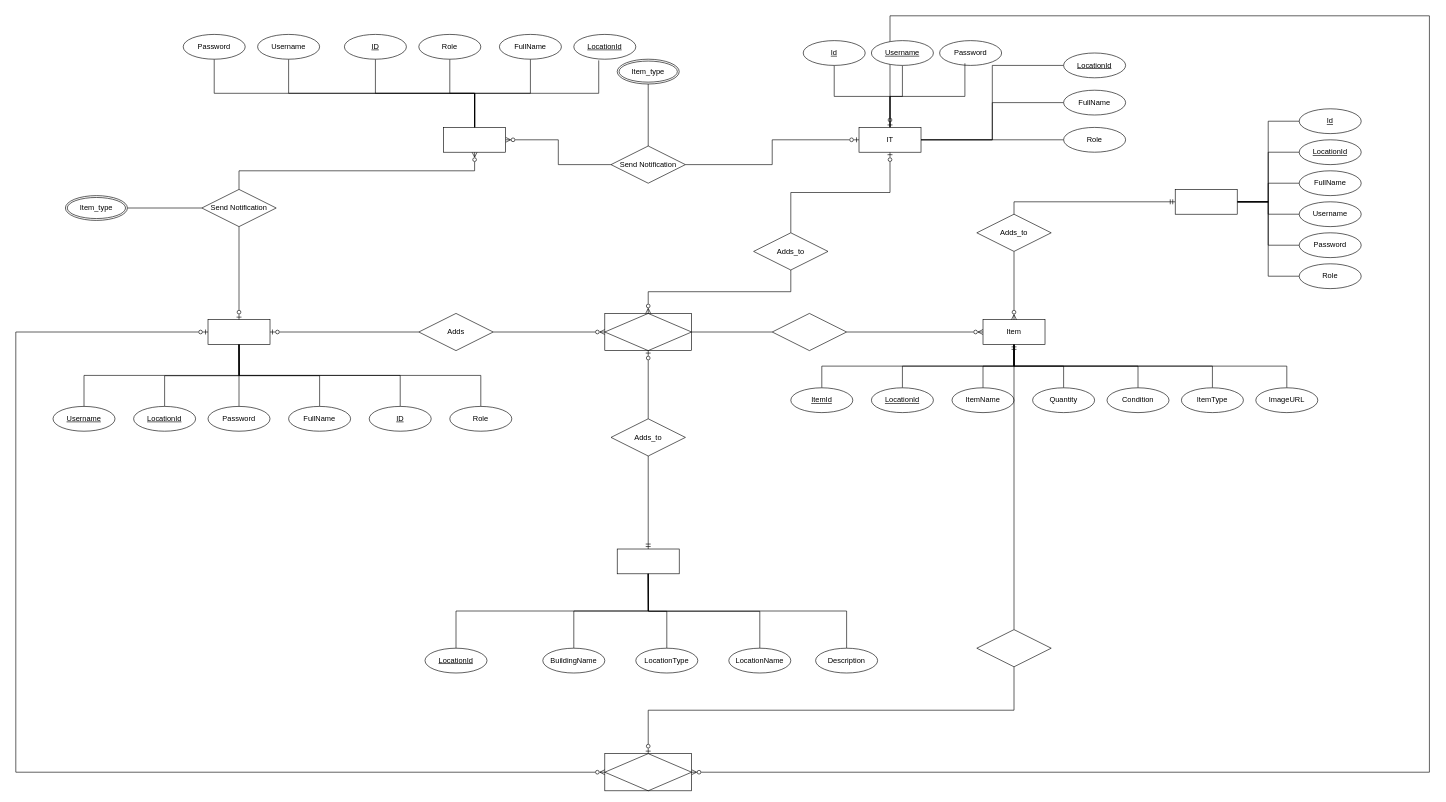
The diagram is 1446 pixels wide and 802 high, and some of its shapes have lost their labels. The centre of each missing label's shape, as x and y in pixels:
"Added_Item" belongs at [648,332].
"EditQuality" belongs at [1013,648].
"Finance" belongs at [1206,201].
"IsAdded" belongs at [809,332].
"Location" belongs at [648,561].
"Quality Check" belongs at [648,772].
"Service User" belongs at [238,331].
"University Staff / Club Coordinator" belongs at [474,139].
